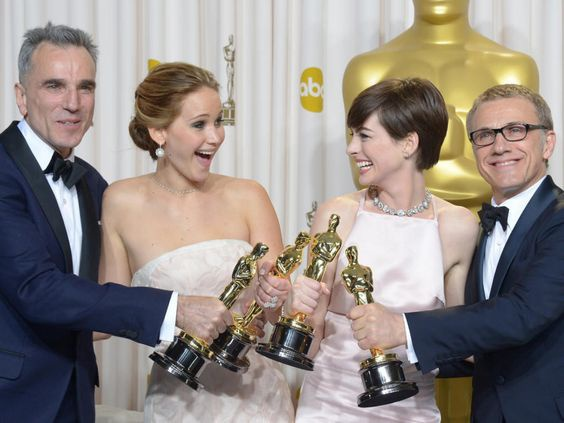hand: (296, 278, 324, 307)
